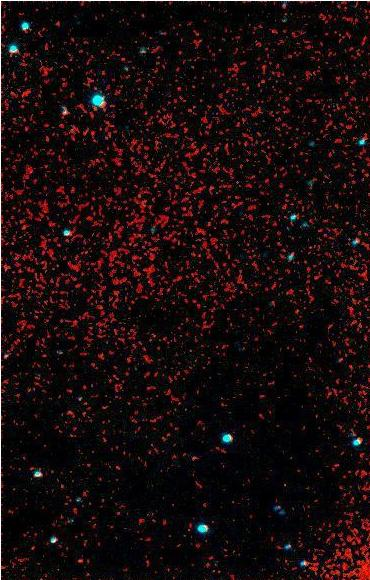star: (67, 547, 97, 577)
